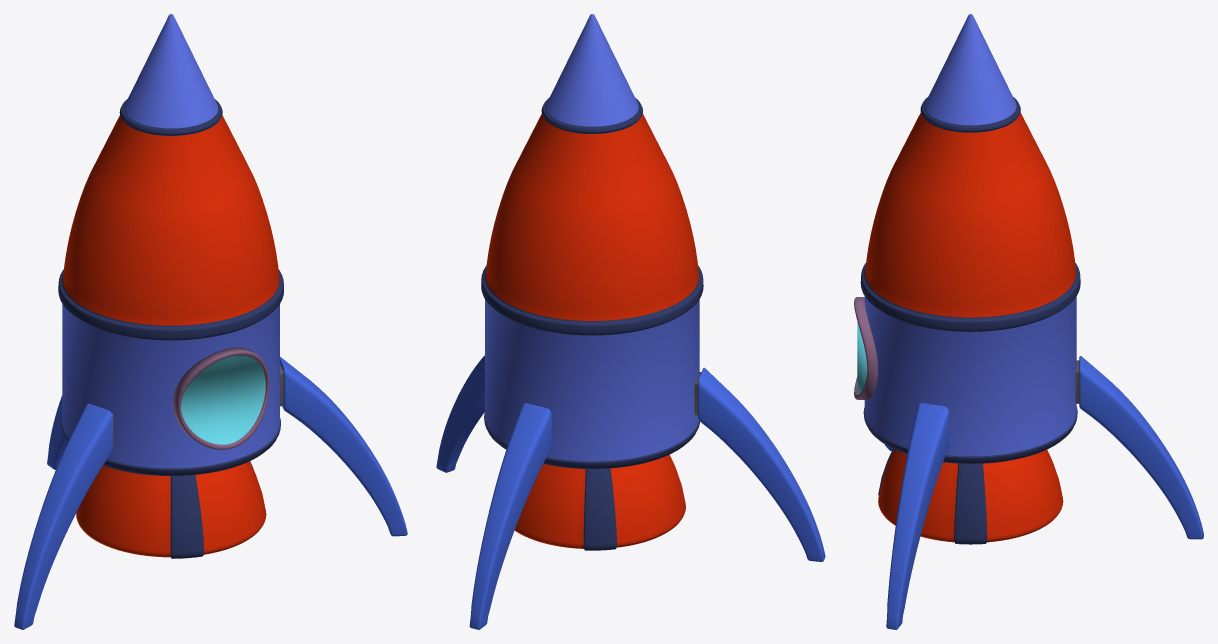
Rendered from Rocket.glb.
3 views of the same model, side by side, from view 1: azimuth 30°, elevation 25°; view 2: azimuth 150°, elevation 25°; view 3: azimuth 270°, elevation 25° (orthographic). The views are drawn at different scales.
Visible parts, largest first — view 1: Cartoon rocket; view 2: Cartoon rocket; view 3: Cartoon rocket.
Part boxes in pixels (left/top/right/bottom): Cartoon rocket: left=14, top=14, right=407, bottom=629; Cartoon rocket: left=436, top=14, right=825, bottom=629; Cartoon rocket: left=854, top=14, right=1203, bottom=629.
Bounding box in the file's own units: 1.19 × 1.56 × 0.9449.
